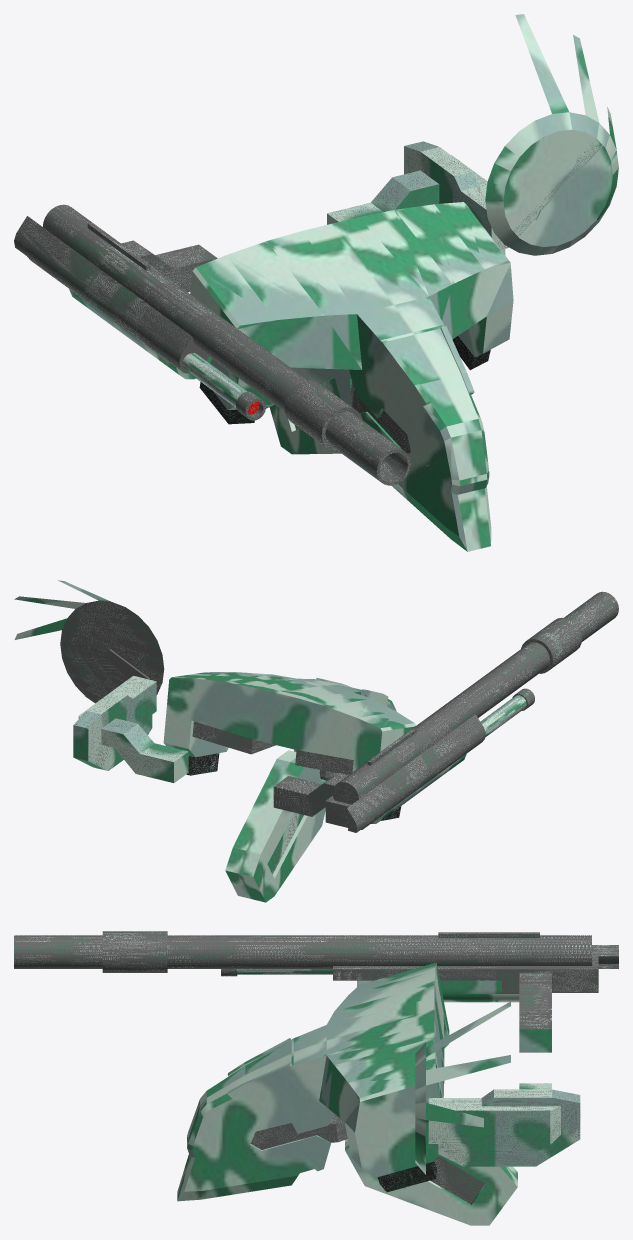
The model's file is luoRobot1UpperBody.dae.
3 views of the same model, one above another, from view 1: azimuth 30°, elevation 25°; view 2: azimuth 150°, elevation 25°; view 3: azimuth 270°, elevation 25° (orthographic). The views are drawn at different scales.
Parts seen in each view (by area): view 1: SketchUp (×13); view 2: SketchUp (×17); view 3: SketchUp (×15).
Boxes of the visible parts, x1,y1,x2,y2 form: SketchUp (×13): (14,14,618,551); SketchUp (×17): (14,580,618,902); SketchUp (×15): (14,931,618,1225).
Size of the model in its own units: 257 by 301 by 172.
5 materials, 1 textured.
